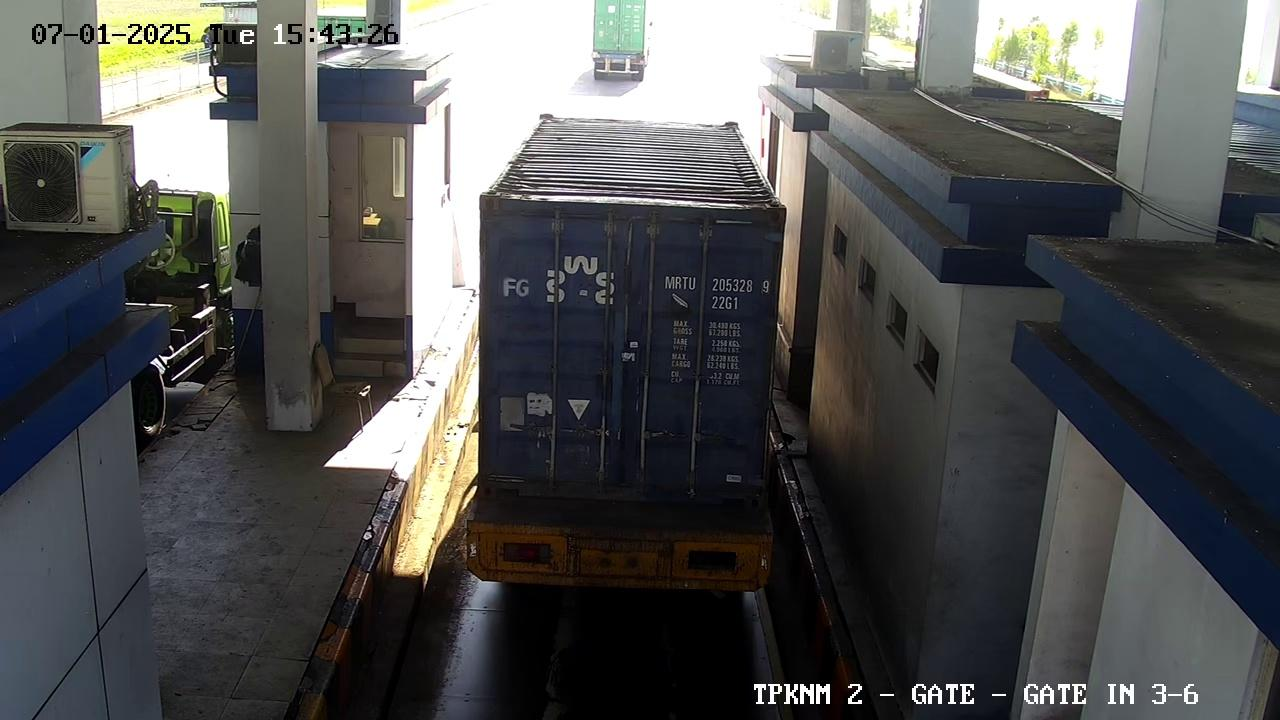Container_ID: (660, 269, 779, 298)
